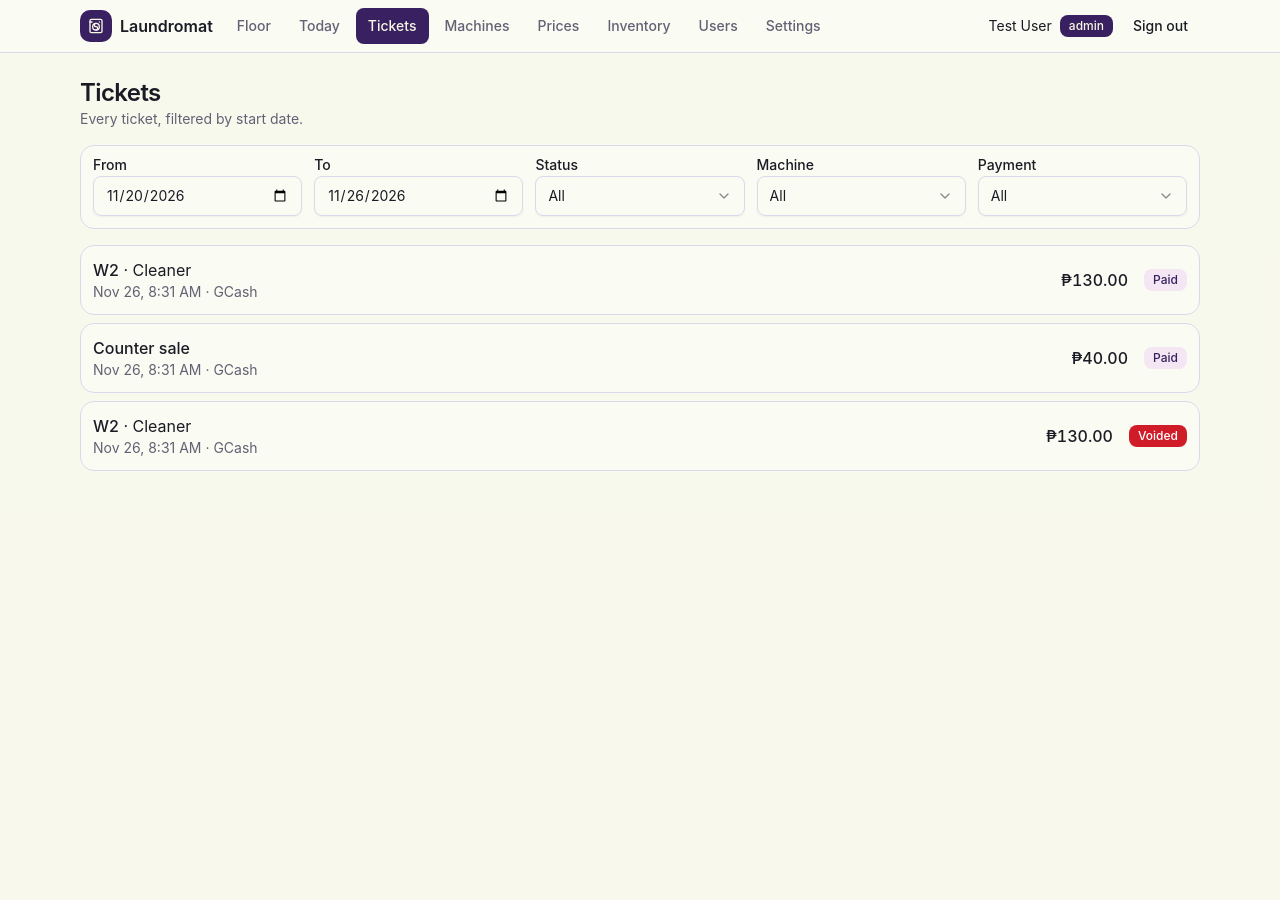
it: Admin ticket browser › lists tickets and shows an itemised breakdown
expect the text "Counter sale" is shown: met, box top-left (93, 338), bottom-right (190, 358)
expect the text "Voided" is shown: met, box top-left (1129, 425), bottom-right (1187, 447)
Click the button with aria-label "open w2 ticket" at (162, 270), box top-left (80, 245), bottom-right (1200, 315)
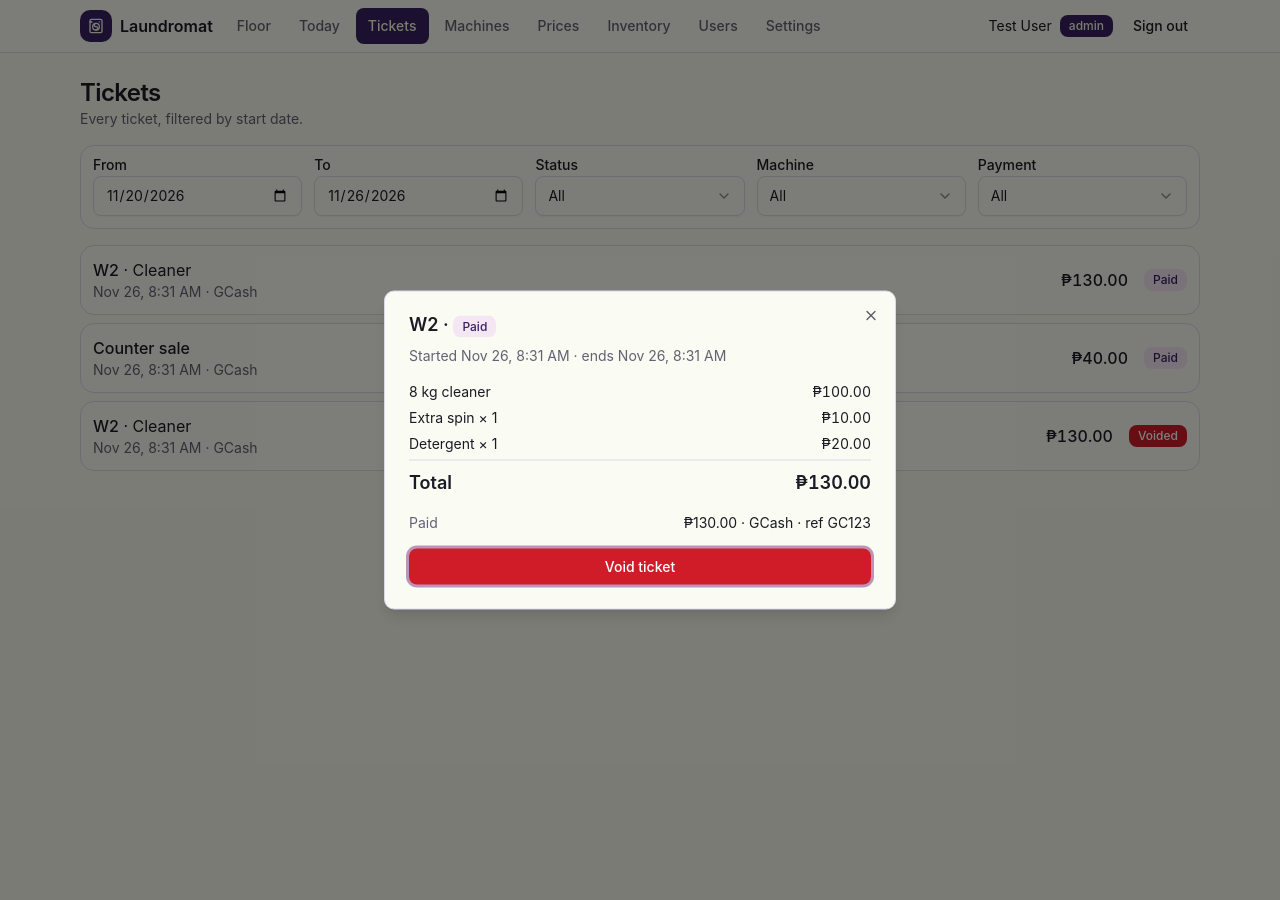
expect the text "8 kg cleaner" is shown: met, box top-left (409, 382), bottom-right (491, 402)
expect the text "Detergent × 1" is shown: met, box top-left (409, 434), bottom-right (497, 454)
expect the text "₱130.00 · GCash · ref GC123" is shown: met, box top-left (684, 512), bottom-right (871, 532)
